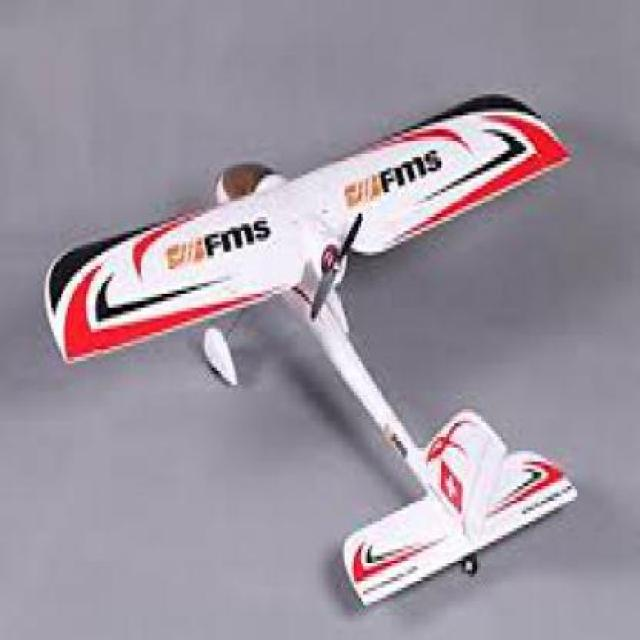iha: (39, 81, 585, 614)
